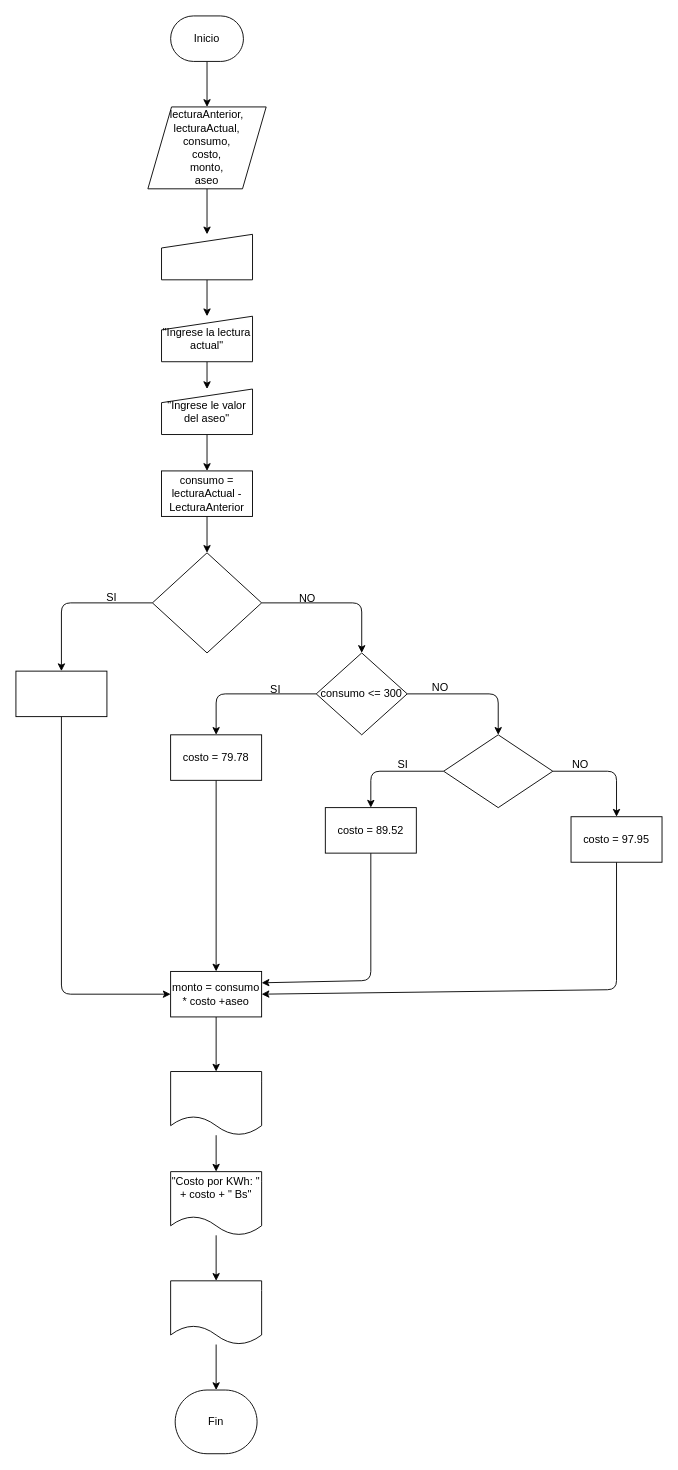
The diagram is 678 pixels wide and 1470 high, and some of its shapes have lost their labels. Each missing label, with the centre of its shape:
"Consumo: " + consumo + " KWh": pixel 216 1103
"Ingrese la lectura anterior": pixel 207 256
"Monto a pagar: " + monto + " Bs": pixel 216 1312
consumo <= 500: pixel 498 771
consumo >= 0 && consumo <=100: pixel 207 602
costo = 2622: pixel 61 693
